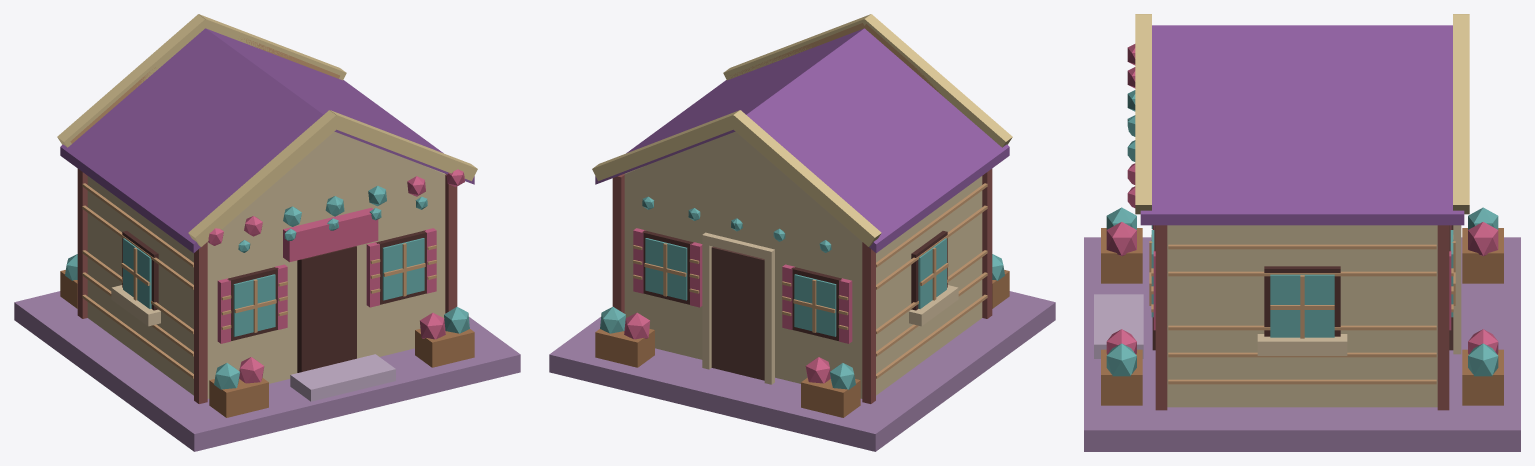
Rendered from Candyland_GingerbreadHouse_Showcase.glb.
3 renders of one model, left to right at view 1: azimuth 30°, elevation 25°; view 2: azimuth 150°, elevation 25°; view 3: azimuth 270°, elevation 25°, orthographic. The views are drawn at different scales.
Parts seen in each view (by area): view 1: Candyland_GingerbreadHouse_Showcase; view 2: Candyland_GingerbreadHouse_Showcase; view 3: Candyland_GingerbreadHouse_Showcase.
Part boxes in pixels (left/top/right/bottom): Candyland_GingerbreadHouse_Showcase: left=14, top=14, right=520, bottom=451; Candyland_GingerbreadHouse_Showcase: left=549, top=14, right=1055, bottom=451; Candyland_GingerbreadHouse_Showcase: left=1084, top=14, right=1520, bottom=451.
Bounding box in the file's own units: 4.6 × 3.79 × 4.4.
